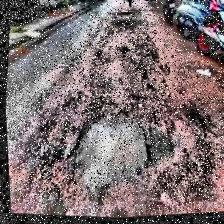pothole: (65, 102, 181, 206)
